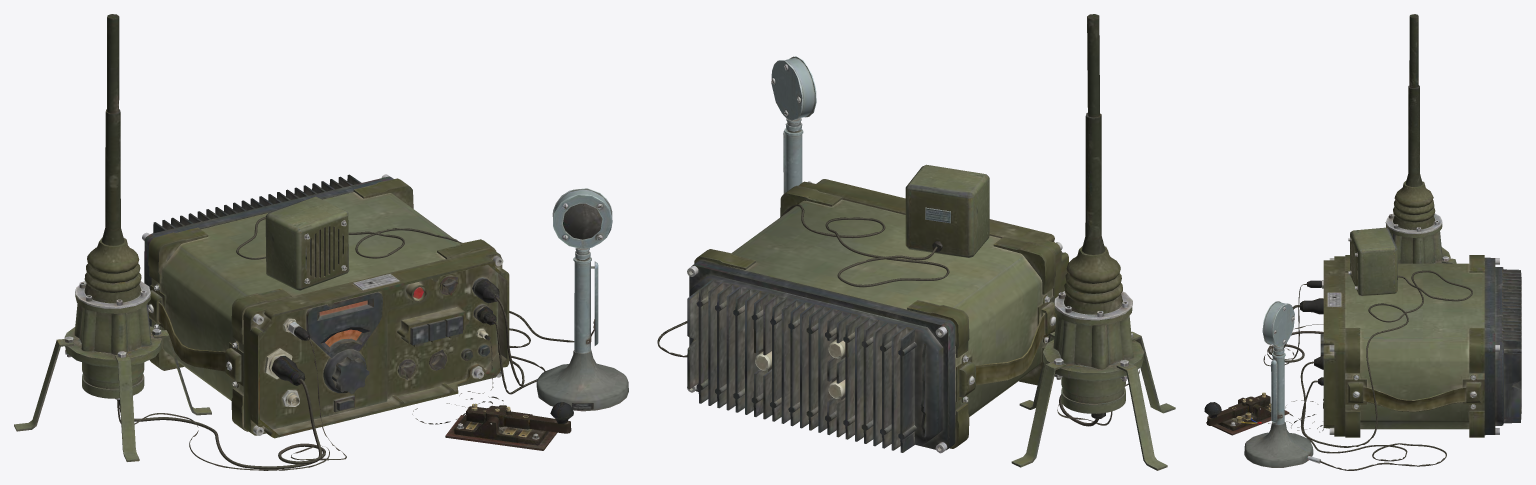
File: radio-vintage.caebd57e.glb
3 views of the same model, side by side, from view 1: azimuth 30°, elevation 25°; view 2: azimuth 150°, elevation 25°; view 3: azimuth 270°, elevation 25° (orthographic). The views are drawn at different scales.
Parts seen in each view (by area): view 1: model; view 2: model; view 3: model.
Part boxes in pixels (<box>): model: <box>14,14,628,470</box>; model: <box>657,14,1175,470</box>; model: <box>1204,14,1521,470</box>.
Size of the model in its own units: 0.574 by 0.4344 by 0.4128.
Materials: 2 (2 with a texture image).
